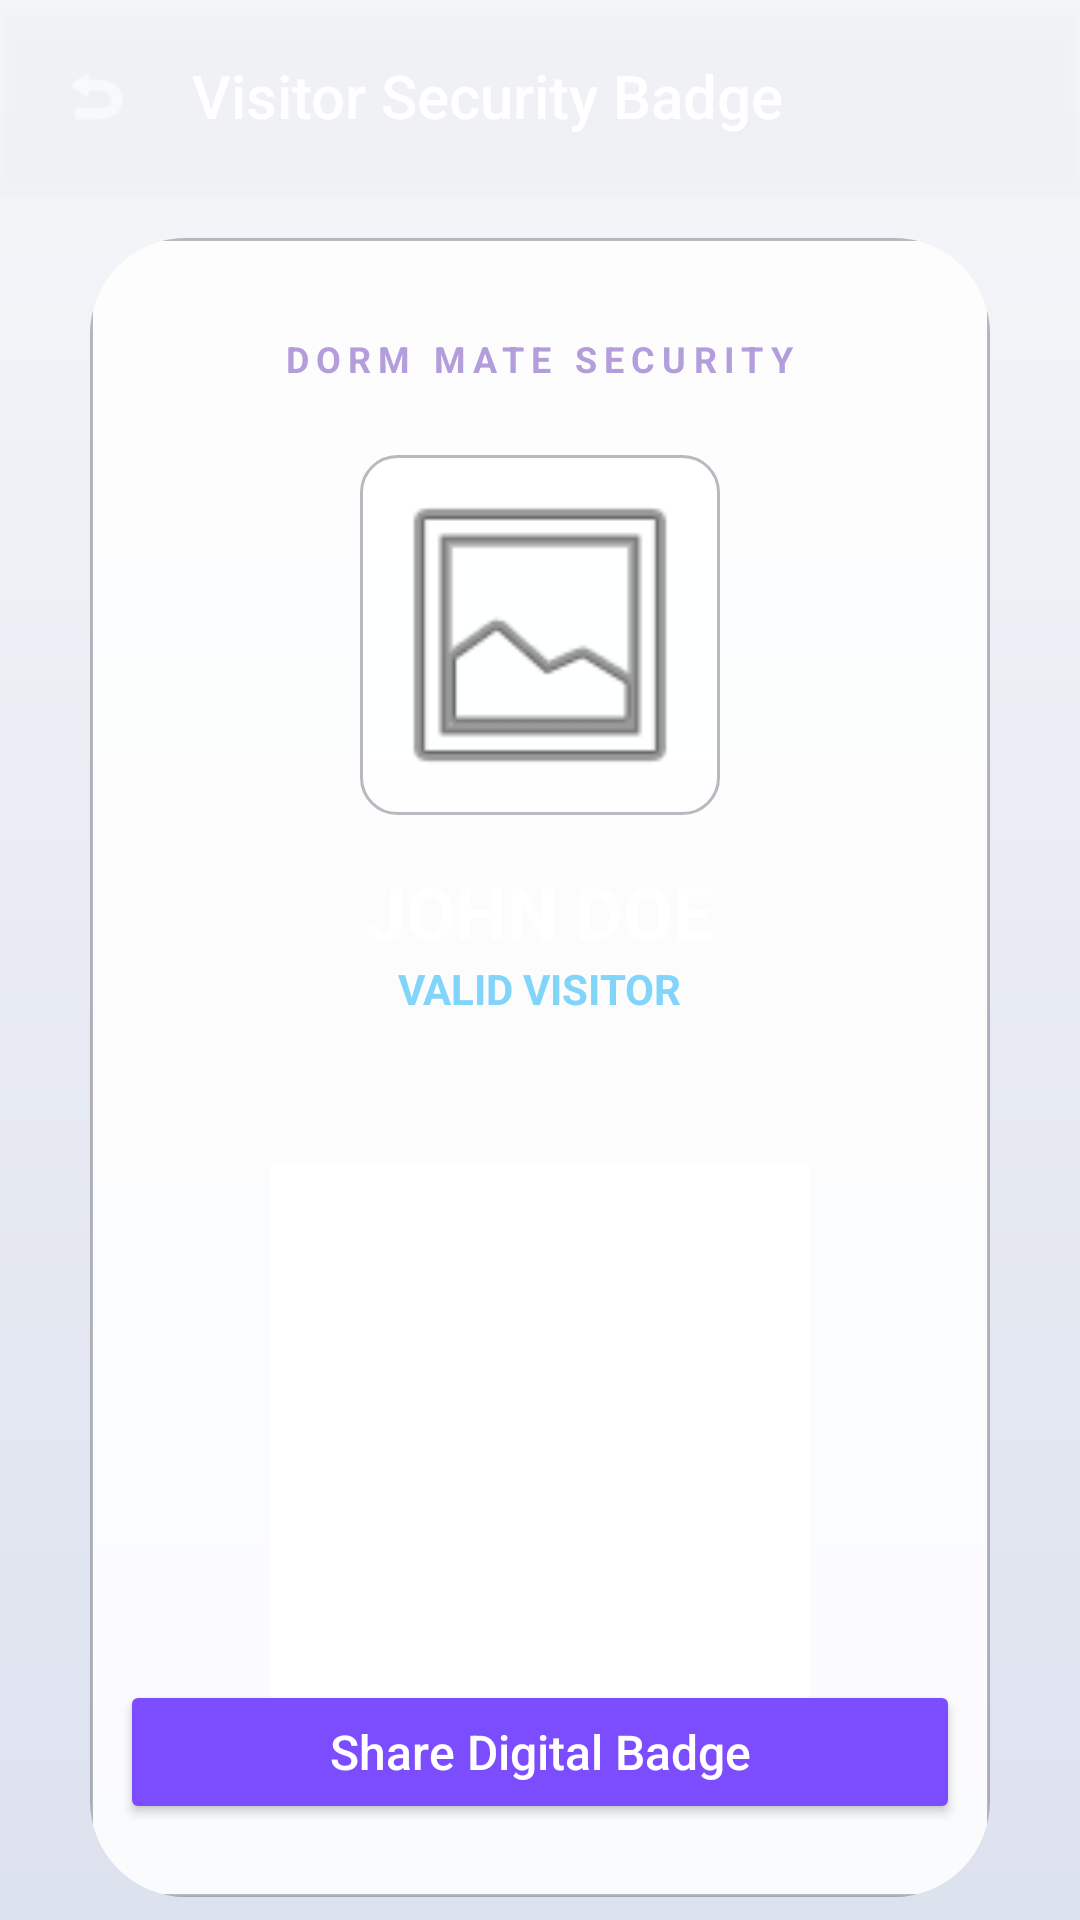

Icon bounding boxes for this 1080w x 1920h phone screenshot, format [x1, y1, x2, y2]:
gallery: [360, 455, 720, 815]
